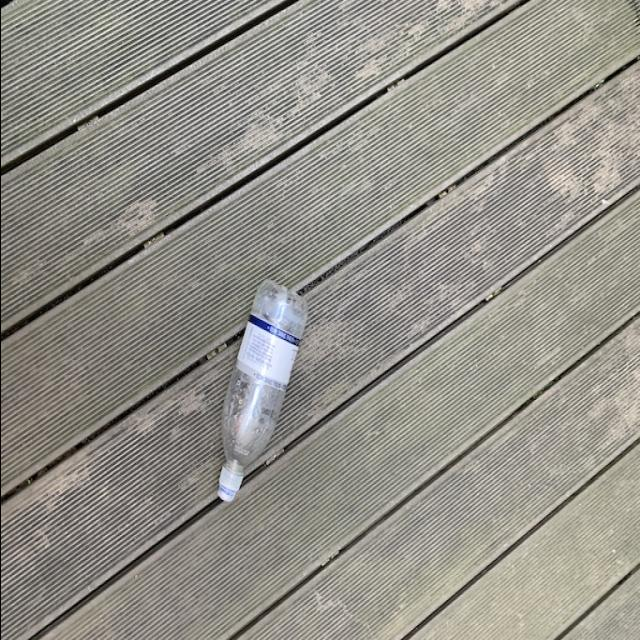litter: (209, 274, 312, 512)
